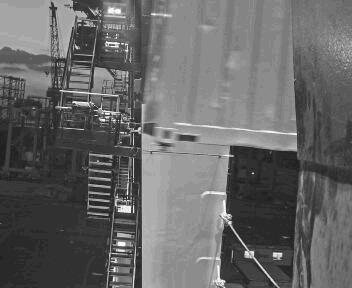twist_lock_1: (163, 161, 205, 193)
